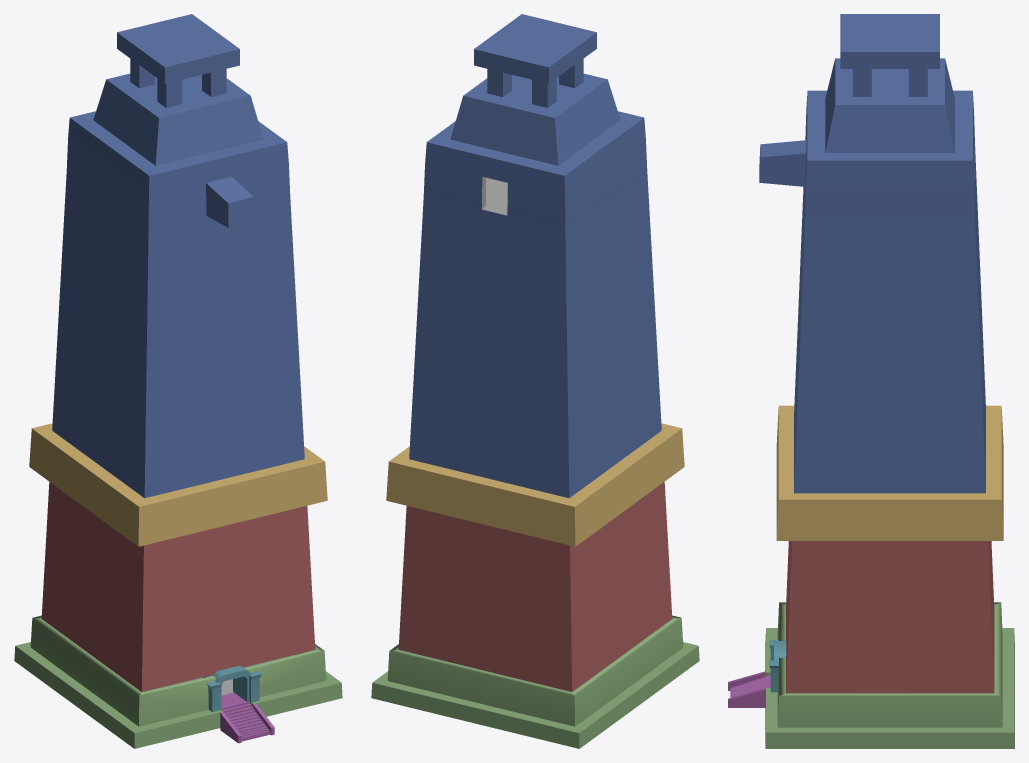
Rendered from TorreLow.fbx.
The picture shows the model from 3 angles, left to right: view 1: azimuth 30°, elevation 25°; view 2: azimuth 150°, elevation 25°; view 3: azimuth 270°, elevation 25°; orthographic projection. The views are drawn at different scales.
Parts seen in each view (by area): view 1: TorreParedes2, TorreParedes1, TorreBase, TorreCinturon, Top, TorreArco, Escaleras, BordesEscaleras; view 2: TorreParedes2, TorreParedes1, TorreBase, TorreCinturon, Top, PisoTorreSup; view 3: TorreParedes2, TorreParedes1, TorreBase, TorreCinturon, Top, BordesEscaleras, TorreArco.
Boxes of the visible parts, x1=… form: TorreParedes2: x1=52, y1=73, x2=304, y2=498; TorreParedes1: x1=41, y1=482, x2=315, y2=691; TorreBase: x1=14, y1=615, x2=342, y2=748; TorreCinturon: x1=29, y1=423, x2=327, y2=546; Top: x1=117, y1=14, x2=239, y2=107; TorreArco: x1=203, y1=665, x2=261, y2=711; Escaleras: x1=221, y1=692, x2=270, y2=741; BordesEscaleras: x1=220, y1=703, x2=274, y2=743; TorreParedes2: x1=409, y1=73, x2=661, y2=498; TorreParedes1: x1=398, y1=482, x2=672, y2=691; TorreBase: x1=371, y1=615, x2=699, y2=748; TorreCinturon: x1=386, y1=423, x2=684, y2=546; Top: x1=474, y1=14, x2=596, y2=107; PisoTorreSup: x1=486, y1=177, x2=507, y2=211; TorreParedes2: x1=759, y1=58, x2=985, y2=493; TorreParedes1: x1=786, y1=541, x2=994, y2=693; TorreBase: x1=765, y1=602, x2=1014, y2=748; TorreCinturon: x1=776, y1=405, x2=1003, y2=540; Top: x1=840, y1=14, x2=939, y2=96; BordesEscaleras: x1=728, y1=671, x2=765, y2=707; TorreArco: x1=769, y1=640, x2=786, y2=692.
Bounding box in the file's own units: 2253 × 6633 × 2590.
